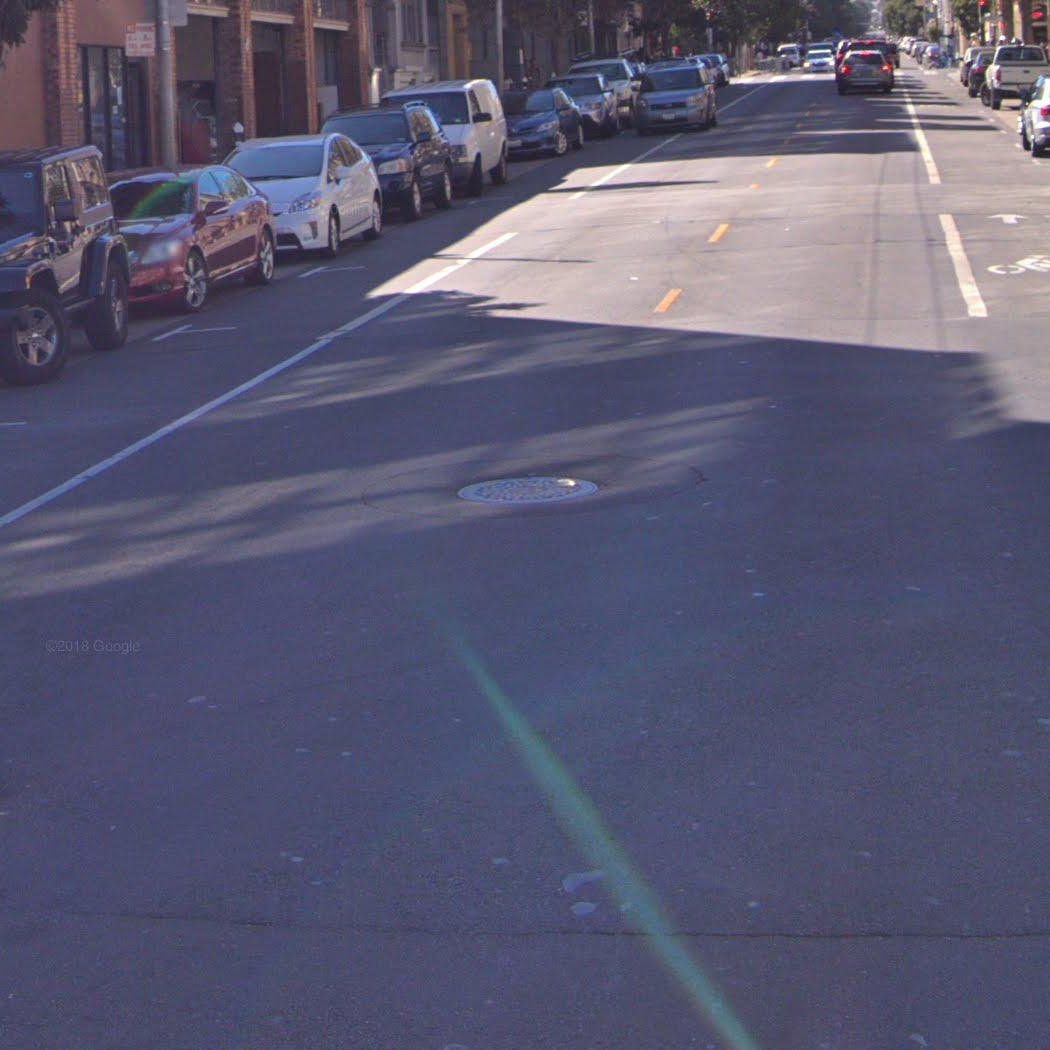No Parking: (124, 21, 156, 57)
